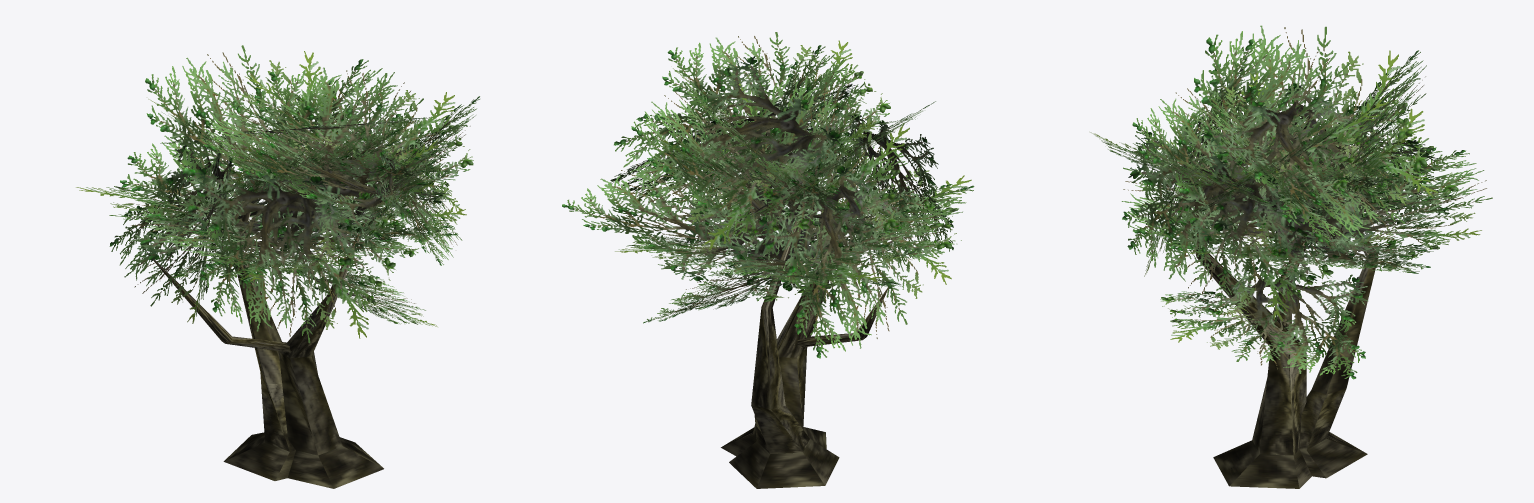
File: olive.glb
3 views of the same model, side by side, from view 1: azimuth 30°, elevation 25°; view 2: azimuth 150°, elevation 25°; view 3: azimuth 270°, elevation 25° (orthographic). The views are drawn at different scales.
Parts seen in each view (by area): view 1: tree_olive_01; view 2: tree_olive_01; view 3: tree_olive_01.
Part boxes in pixels (left/top/right/bottom): tree_olive_01: left=76, top=45, right=479, bottom=488; tree_olive_01: left=562, top=32, right=974, bottom=488; tree_olive_01: left=1090, top=25, right=1492, bottom=488.
Bounding box in the file's own units: 13.13 × 12.02 × 13.42.
1 material, 1 textured.
